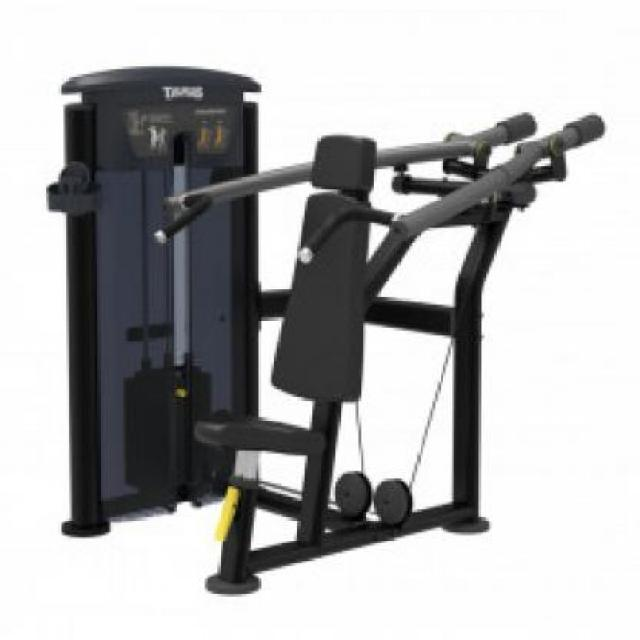shoulder press machine: (45, 63, 603, 597)
